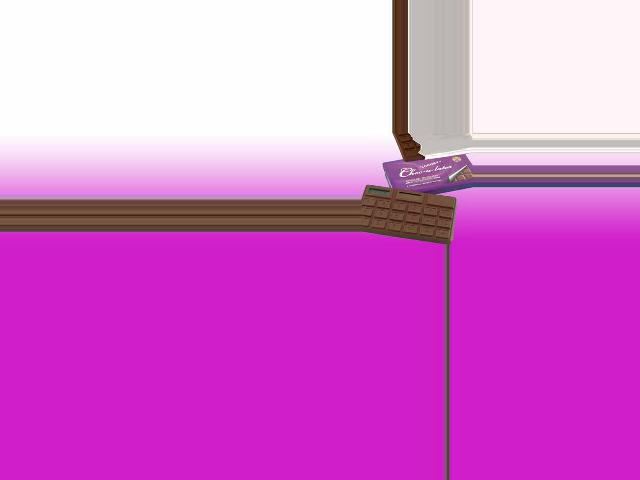chocolate: (364, 183, 455, 245)
